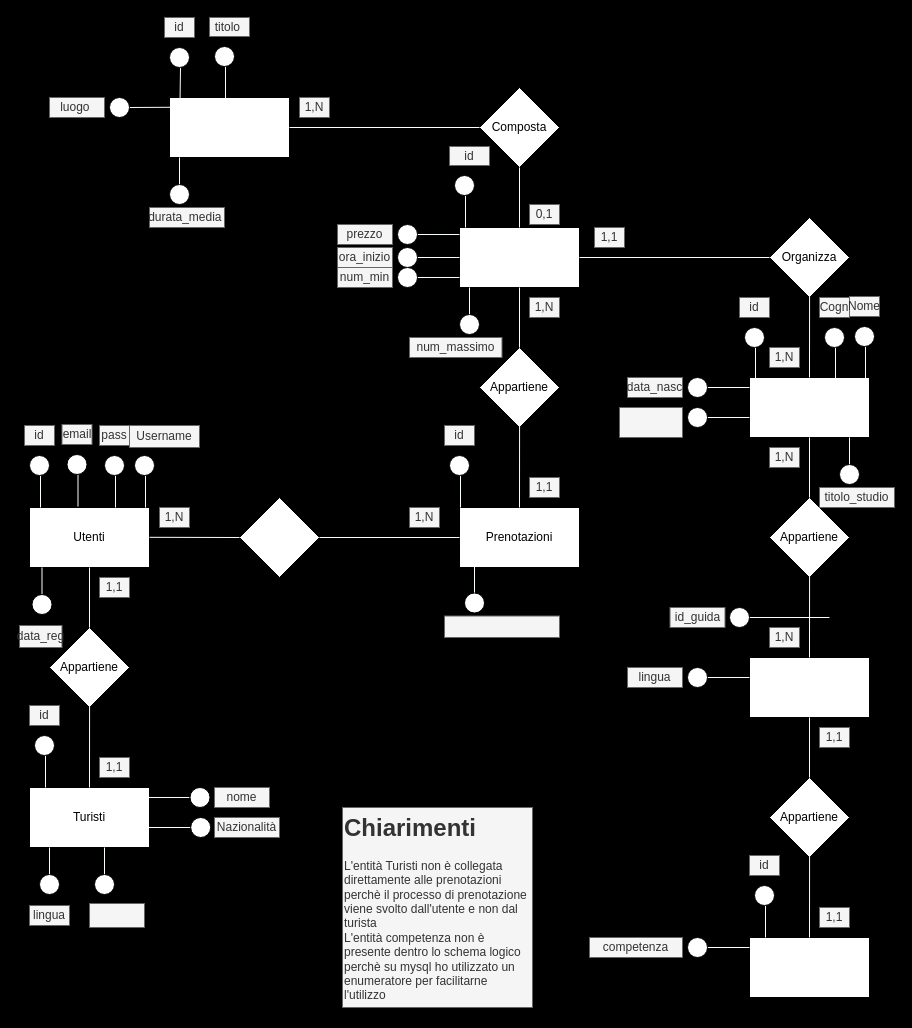
The diagram is 912 pixels wide and 1028 high, and some of its shapes have lost their labels. Here are the shapes that lost their labels. From the top down, the centre of each, then its label:
the point at 229,127: Visita
the point at 519,257: Evento
the point at 650,422: luogo _nasc
the point at 809,407: Guida
the point at 279,537: Creano
the point at 502,626: data_prenotazione
the point at 809,687: Lingua_guida
the point at 116,915: telefono
the point at 809,967: Livello_competenza
